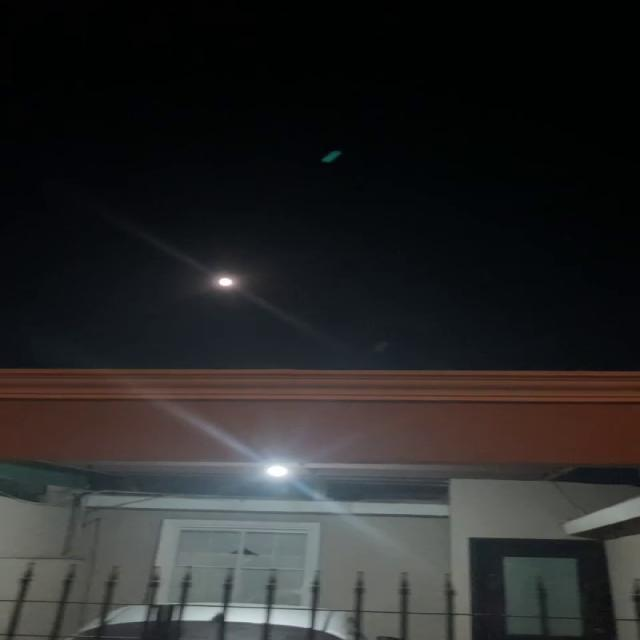moon: (200, 266, 250, 294)
